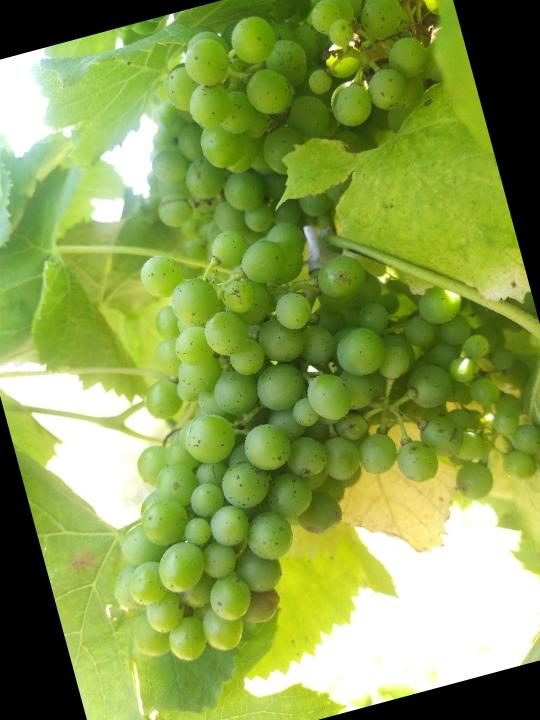grape: (28, 166, 540, 679)
